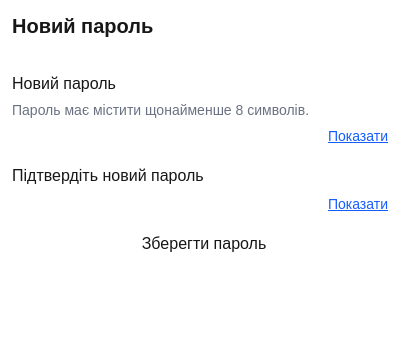
Test: ResetPasswordForm › test_error_shows_its_fixed_message_(TypeError)
Type "staple-new-horse-battery" into the password field labelled "Новий пароль" at coordinates (204, 136), box top-left (12, 124), bottom-right (396, 148)
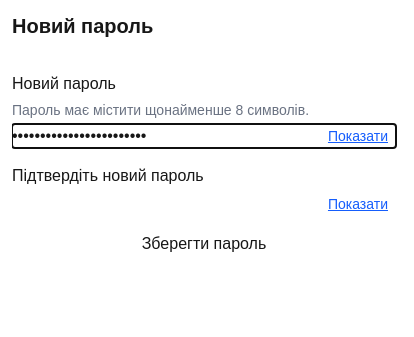
Type "staple-new-horse-battery" into the password field labelled "Підтвердіть новий пароль" at coordinates (204, 204), box top-left (12, 192), bottom-right (396, 216)
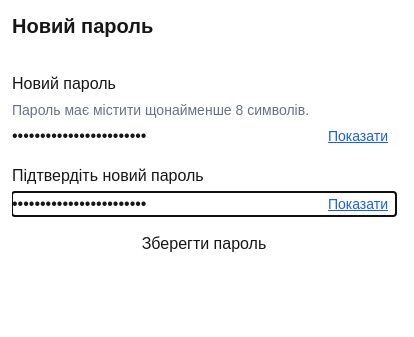
Click the button "Зберегти пароль" at coordinates (204, 244), box top-left (12, 232), bottom-right (396, 256)
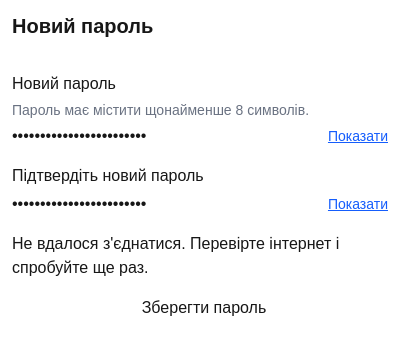
expect the message does not show "Failed to fetch": met, box top-left (12, 232), bottom-right (396, 280)
expect the message reads "Не вдалося з'єднатися. Перевірте інтернет і спробуйте ще раз.": met, box top-left (12, 235), bottom-right (339, 276)
